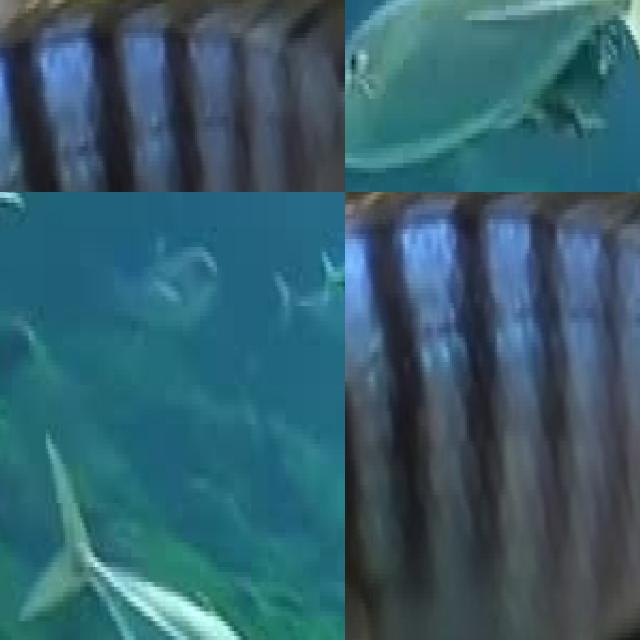fish: (345, 192, 640, 640), (9, 419, 334, 640), (0, 0, 345, 192)
